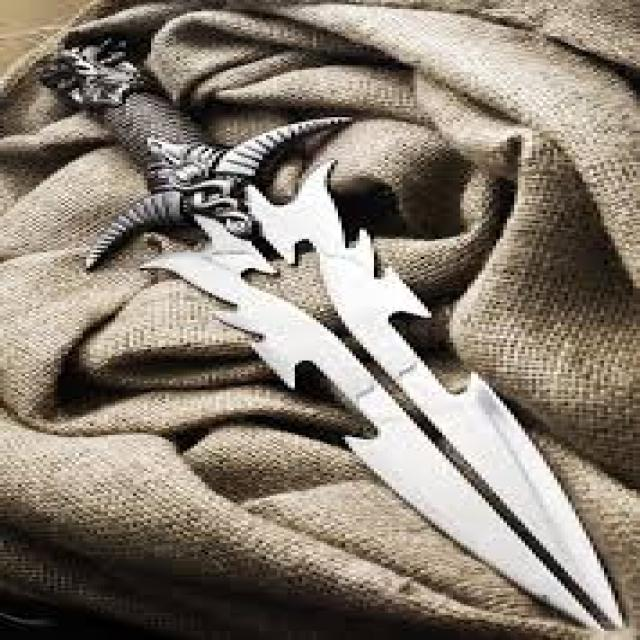Gun: (8, 28, 640, 640)
